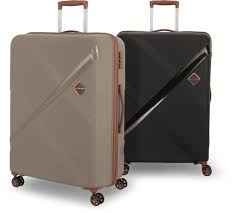suitcase: (5, 1, 127, 206), (116, 1, 214, 177)
